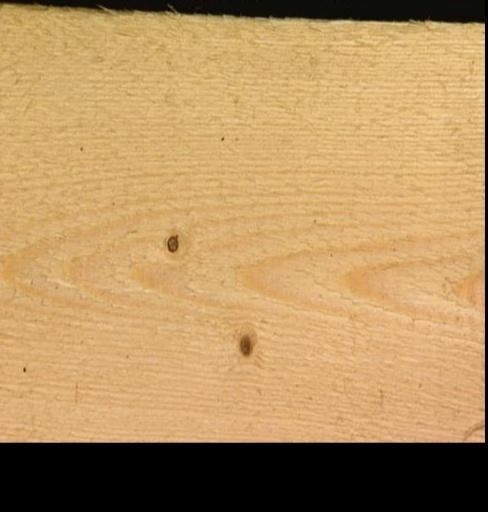dry_knot: (236, 331, 253, 356), (164, 232, 178, 252)
